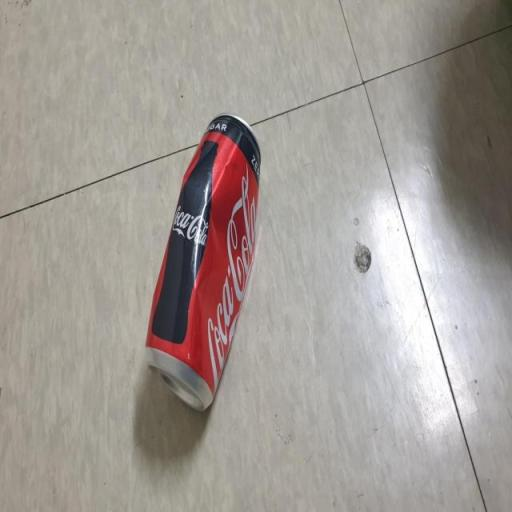metal: (124, 101, 277, 443)
